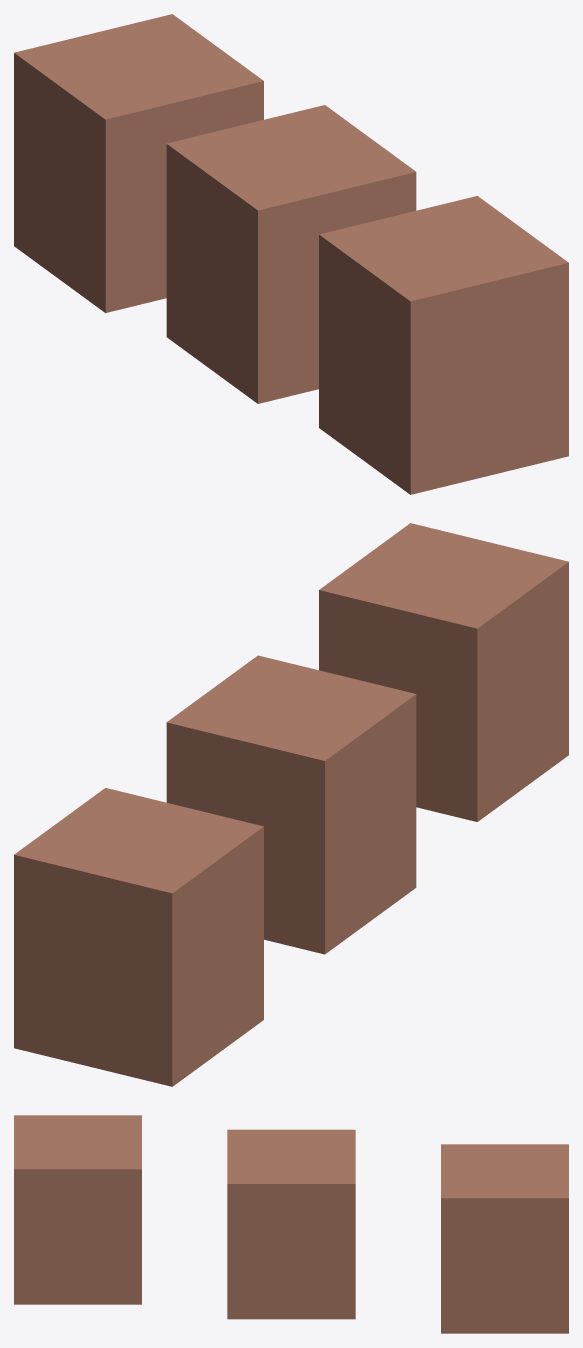
File: blocos_soltos_torre_a.glb
3 renders of one model, top to bottom at view 1: azimuth 30°, elevation 25°; view 2: azimuth 150°, elevation 25°; view 3: azimuth 270°, elevation 25°, orthographic. The views are drawn at different scales.
Parts seen in each view (by area): view 1: Malha_0; view 2: Malha_0; view 3: Malha_0.
Part boxes in pixels (x1,y1,x2,y2): Malha_0: (14, 14, 568, 494); Malha_0: (14, 523, 568, 1086); Malha_0: (14, 1115, 568, 1333).
Size of the model in its own units: 0.3 by 0.425 by 1.3.
